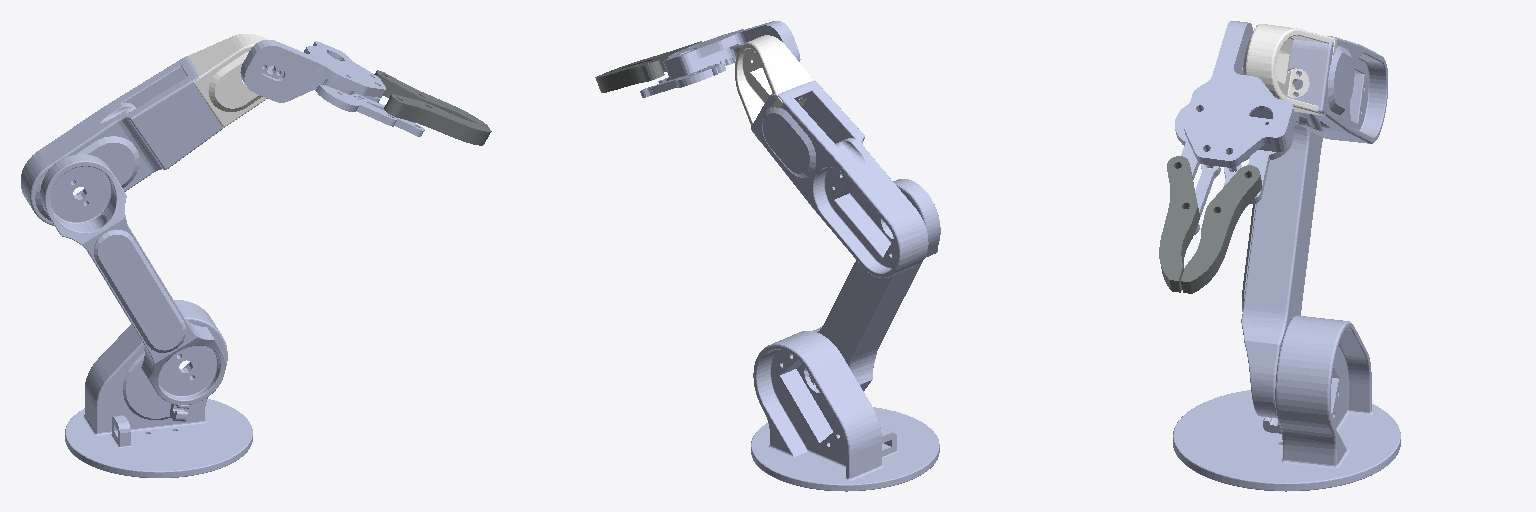
The robot description file, URDF, robot "mobile_arm_bot_2":
<?xml version="1.0" encoding="utf-8"?>
<!-- This URDF was automatically created by SolidWorks to URDF Exporter! Originally created by Stephen Brawner (brawner@gmail.com) 
     Commit Version: 1.6.0-4-g7f85cfe  Build Version: 1.6.7995.38578
     For more information, please see http://wiki.ros.org/sw_urdf_exporter -->
<robot
  name="mobile_arm_bot_2">
  <link
    name="base_link">
    <inertial>
      <origin
        xyz="-0.00036726 0.0001156 0.022489"
        rpy="0 0 0" />
      <mass
        value="0.093638" />
      <inertia
        ixx="0.00012547"
        ixy="-2.5159E-08"
        ixz="1.5661E-06"
        iyy="0.00013089"
        iyz="-1.4418E-07"
        izz="0.00020147" />
    </inertial>
    <visual>
      <origin
        xyz="0 0 0"
        rpy="0 0 0" />
      <geometry>
        <mesh
          filename="package://mobile_arm_manipulator/meshes/base_link.STL" />
      </geometry>
      <material
        name="">
        <color
          rgba="0.79216 0.81961 0.93333 1" />
      </material>
    </visual>
    <collision>
      <origin
        xyz="0 0 0"
        rpy="0 0 0" />
      <geometry>
        <mesh
          filename="package://mobile_arm_manipulator/meshes/base_link.STL" />
      </geometry>
    </collision>
  </link>
  <link
    name="link_1">
    <inertial>
      <origin
        xyz="0.002243 0.0075762 0.018765"
        rpy="0 0 0" />
      <mass
        value="0.072312" />
      <inertia
        ixx="4.9568E-05"
        ixy="-1.5508E-06"
        ixz="-6.3994E-06"
        iyy="6.2445E-05"
        iyz="-6.7489E-06"
        izz="5.6938E-05" />
    </inertial>
    <visual>
      <origin
        xyz="0 0 0"
        rpy="0 0 0" />
      <geometry>
        <mesh
          filename="package://mobile_arm_manipulator/meshes/link_1.STL" />
      </geometry>
      <material
        name="">
        <color
          rgba="0.79216 0.81961 0.93333 1" />
      </material>
    </visual>
    <collision>
      <origin
        xyz="0 0 0"
        rpy="0 0 0" />
      <geometry>
        <mesh
          filename="package://mobile_arm_manipulator/meshes/link_1.STL" />
      </geometry>
    </collision>
  </link>
  <joint
    name="joint_1"
    type="revolute">
    <origin
      xyz="0 0 0.056"
      rpy="0 0 -0.26189" />
    <parent
      link="base_link" />
    <child
      link="link_1" />
    <axis
      xyz="0 0 1" />
    <limit
      lower="0"
      upper="3.1416"
      effort="0"
      velocity="0" />
  </joint>
  <link
    name="link_2">
    <inertial>
      <origin
        xyz="-0.00012948 -0.0043336 0.059294"
        rpy="0 0 0" />
      <mass
        value="0.056532" />
      <inertia
        ixx="9.4195E-05"
        ixy="-3.005E-10"
        ixz="-1.4691E-09"
        iyy="9.7021E-05"
        iyz="-3.0019E-10"
        izz="7.2804E-06" />
    </inertial>
    <visual>
      <origin
        xyz="0 0 0"
        rpy="0 0 0" />
      <geometry>
        <mesh
          filename="package://mobile_arm_manipulator/meshes/link_2.STL" />
      </geometry>
      <material
        name="">
        <color
          rgba="0.79216 0.81961 0.93333 1" />
      </material>
    </visual>
    <collision>
      <origin
        xyz="0 0 0"
        rpy="0 0 0" />
      <geometry>
        <mesh
          filename="package://mobile_arm_manipulator/meshes/link_2.STL" />
      </geometry>
    </collision>
  </link>
  <joint
    name="joint_2"
    type="revolute">
    <origin
      xyz="0.013919 0 0.040276"
      rpy="0 -0.49165 0" />
    <parent
      link="link_1" />
    <child
      link="link_2" />
    <axis
      xyz="0 1 0" />
    <limit
      lower="0"
      upper="3.1416"
      effort="0"
      velocity="0" />
  </joint>
  <link
    name="link_3">
    <inertial>
      <origin
        xyz="0.03808 0.013781 -0.00091995"
        rpy="0 0 0" />
      <mass
        value="0.05696" />
      <inertia
        ixx="1.1086E-05"
        ixy="-9.9972E-07"
        ixz="1.4846E-06"
        iyy="6.7149E-05"
        iyz="5.5761E-08"
        izz="6.3613E-05" />
    </inertial>
    <visual>
      <origin
        xyz="0 0 0"
        rpy="0 0 0" />
      <geometry>
        <mesh
          filename="package://mobile_arm_manipulator/meshes/link_3.STL" />
      </geometry>
      <material
        name="">
        <color
          rgba="0.79216 0.81961 0.93333 1" />
      </material>
    </visual>
    <collision>
      <origin
        xyz="0 0 0"
        rpy="0 0 0" />
      <geometry>
        <mesh
          filename="package://mobile_arm_manipulator/meshes/link_3.STL" />
      </geometry>
    </collision>
  </link>
  <joint
    name="joint_3"
    type="revolute">
    <origin
      xyz="0 0 0.12"
      rpy="-0.0085366 -0.072864 -0.0012933" />
    <parent
      link="link_2" />
    <child
      link="link_3" />
    <axis
      xyz="0.0012899 -0.99996 -0.0086307" />
    <limit
      lower="0"
      upper="3.1416"
      effort="0"
      velocity="0" />
  </joint>
  <link
    name="link_4">
    <inertial>
      <origin
        xyz="0.029998 -0.0057413 0.0048155"
        rpy="0 0 0" />
      <mass
        value="0.018176" />
      <inertia
        ixx="2.8956E-06"
        ixy="6.016E-07"
        ixz="1.9471E-08"
        iyy="5.3577E-06"
        iyz="-1.8766E-08"
        izz="4.262E-06" />
    </inertial>
    <visual>
      <origin
        xyz="0 0 0"
        rpy="0 0 0" />
      <geometry>
        <mesh
          filename="package://mobile_arm_manipulator/meshes/link_4.STL" />
      </geometry>
      <material
        name="">
        <color
          rgba="1 1 1 1" />
      </material>
    </visual>
    <collision>
      <origin
        xyz="0 0 0"
        rpy="0 0 0" />
      <geometry>
        <mesh
          filename="package://mobile_arm_manipulator/meshes/link_4.STL" />
      </geometry>
    </collision>
  </link>
  <joint
    name="joint_4"
    type="revolute">
    <origin
      xyz="0.077872 0.013612 -0.0072246"
      rpy="0.00023545 0.017066 0.0012724" />
    <parent
      link="link_3" />
    <child
      link="link_4" />
    <axis
      xyz="0.99996 0.0002412 -0.0091073" />
    <limit
      lower="0"
      upper="3.1416"
      effort="0"
      velocity="0" />
  </joint>
  <link
    name="gripper_base_link">
    <inertial>
      <origin
        xyz="0.023551 -0.014074 0.0056942"
        rpy="0 0 0" />
      <mass
        value="0.015721" />
      <inertia
        ixx="2.5605E-06"
        ixy="-1.4166E-06"
        ixz="-1.3765E-06"
        iyy="7.2536E-06"
        iyz="-3.5787E-07"
        izz="8.1096E-06" />
    </inertial>
    <visual>
      <origin
        xyz="0 0 0"
        rpy="0 0 0" />
      <geometry>
        <mesh
          filename="package://mobile_arm_manipulator/meshes/gripper_base_link.STL" />
      </geometry>
      <material
        name="">
        <color
          rgba="0.79216 0.81961 0.93333 1" />
      </material>
    </visual>
    <collision>
      <origin
        xyz="0 0 0"
        rpy="0 0 0" />
      <geometry>
        <mesh
          filename="package://mobile_arm_manipulator/meshes/gripper_base_link.STL" />
      </geometry>
    </collision>
  </link>
  <joint
    name="gripper_base_joint"
    type="revolute">
    <origin
      xyz="0.039739 5.0229E-05 0.0046381"
      rpy="-0.025359 1.0602 -0.014195" />
    <parent
      link="link_4" />
    <child
      link="gripper_base_link" />
    <axis
      xyz="0 0.99996 0.0087265" />
    <limit
      lower="0"
      upper="3.1416"
      effort="0"
      velocity="0" />
  </joint>
  <link
    name="left_gear_link">
    <inertial>
      <origin
        xyz="0.0056831 -0.00040658 0.016"
        rpy="0 0 0" />
      <mass
        value="0.0025659" />
      <inertia
        ixx="9.0729E-08"
        ixy="-1.9117E-08"
        ixz="2.1722E-19"
        iyy="3.6228E-07"
        iyz="-4.5607E-20"
        izz="4.4616E-07" />
    </inertial>
    <visual>
      <origin
        xyz="0 0 0"
        rpy="0 0 0" />
      <geometry>
        <mesh
          filename="package://mobile_arm_manipulator/meshes/left_gear_link.STL" />
      </geometry>
      <material
        name="">
        <color
          rgba="0.79216 0.81961 0.93333 1" />
      </material>
    </visual>
    <collision>
      <origin
        xyz="0 0 0"
        rpy="0 0 0" />
      <geometry>
        <mesh
          filename="package://mobile_arm_manipulator/meshes/left_gear_link.STL" />
      </geometry>
    </collision>
  </link>
  <joint
    name="left_gear_joint"
    type="revolute">
    <origin
      xyz="0.038 0.0018999 1.658E-05"
      rpy="0.0087219 -0.00028924 0.033149" />
    <parent
      link="gripper_base_link" />
    <child
      link="left_gear_link" />
    <axis
      xyz="0 0 1" />
    <limit
      lower="0"
      upper="2"
      effort="5"
      velocity="0" />
  </joint>
  <link
    name="left_finger_link">
    <inertial>
      <origin
        xyz="0.026893 0.0045131 -0.0042469"
        rpy="0 0 0" />
      <mass
        value="0.0053975" />
      <inertia
        ixx="1.8308E-07"
        ixy="-3.7341E-07"
        ixz="-6.5545E-12"
        iyy="1.5958E-06"
        iyz="1.2621E-11"
        izz="1.7139E-06" />
    </inertial>
    <visual>
      <origin
        xyz="0 0 0"
        rpy="0 0 0" />
      <geometry>
        <mesh
          filename="package://mobile_arm_manipulator/meshes/left_finger_link.STL" />
      </geometry>
      <material
        name="">
        <color
          rgba="0.52941 0.54902 0.54902 1" />
      </material>
    </visual>
    <collision>
      <origin
        xyz="0 0 0"
        rpy="0 0 0" />
      <geometry>
        <mesh
          filename="package://mobile_arm_manipulator/meshes/left_finger_link.STL" />
      </geometry>
    </collision>
  </link>
  <joint
    name="left_finger_joint"
    type="revolute">
    <origin
      xyz="0.030728 0.0010745 0.013997"
      rpy="0 0 -0.4368" />
    <parent
      link="left_gear_link" />
    <child
      link="left_finger_link" />
    <axis
      xyz="0 0 -1" />
    <limit
      lower="0"
      upper="3.1416"
      effort="0"
      velocity="0" />
    <mimic
      joint="left_gear_joint"
      multiplier="1"
      offset="0" />
  </joint>
  <link
    name="right_gear_link">
    <inertial>
      <origin
        xyz="0.0055788 0.00060197 0.016"
        rpy="0 0 0" />
      <mass
        value="0.0026416" />
      <inertia
        ixx="9.0046E-08"
        ixy="9.2574E-09"
        ixz="4.4469E-21"
        iyy="3.6424E-07"
        iyz="-3.7286E-20"
        izz="4.4724E-07" />
    </inertial>
    <visual>
      <origin
        xyz="0 0 0"
        rpy="0 0 0" />
      <geometry>
        <mesh
          filename="package://mobile_arm_manipulator/meshes/right_gear_link.STL" />
      </geometry>
      <material
        name="">
        <color
          rgba="0.79216 0.81961 0.93333 1" />
      </material>
    </visual>
    <collision>
      <origin
        xyz="0 0 0"
        rpy="0 0 0" />
      <geometry>
        <mesh
          filename="package://mobile_arm_manipulator/meshes/right_gear_link.STL" />
      </geometry>
    </collision>
  </link>
  <joint
    name="right_gear_joint"
    type="revolute">
    <origin
      xyz="0.038 -0.024999 -0.00021816"
      rpy="0.0087077 0.00057486 -0.06592" />
    <parent
      link="gripper_base_link" />
    <child
      link="right_gear_link" />
    <axis
      xyz="0 0 -1" />
    <limit
      lower="0"
      upper="3.1416"
      effort="0"
      velocity="0" />
    <mimic
      joint="left_gear_joint"
      multiplier="1"
      offset="0" />
  </joint>
  <link
    name="right_finger_link">
    <inertial>
      <origin
        xyz="0.026893 0.0045131 -0.0042469"
        rpy="0 0 0" />
      <mass
        value="0.0053975" />
      <inertia
        ixx="1.8308E-07"
        ixy="-3.7341E-07"
        ixz="-6.6286E-12"
        iyy="1.5958E-06"
        iyz="1.2817E-11"
        izz="1.7139E-06" />
    </inertial>
    <visual>
      <origin
        xyz="0 0 0"
        rpy="0 0 0" />
      <geometry>
        <mesh
          filename="package://mobile_arm_manipulator/meshes/right_finger_link.STL" />
      </geometry>
      <material
        name="">
        <color
          rgba="0.52941 0.54902 0.54902 1" />
      </material>
    </visual>
    <collision>
      <origin
        xyz="0 0 0"
        rpy="0 0 0" />
      <geometry>
        <mesh
          filename="package://mobile_arm_manipulator/meshes/right_finger_link.STL" />
      </geometry>
    </collision>
  </link>
  <joint
    name="right_finger_joint"
    type="revolute">
    <origin
      xyz="0.030747 0 0.0055031"
      rpy="-3.1416 0 0.46391" />
    <parent
      link="right_gear_link" />
    <child
      link="right_finger_link" />
    <axis
      xyz="0 0 -1" />
    <limit
      lower="0"
      upper="3.1416"
      effort="0"
      velocity="0" />
    <mimic
      joint="left_gear_joint"
      multiplier="1"
      offset="0" />
  </joint>
  <link
    name="left_link">
    <inertial>
      <origin
        xyz="0.0155 -7.3067E-15 0.017505"
        rpy="0 0 0" />
      <mass
        value="0.00079876" />
      <inertia
        ixx="3.6325E-09"
        ixy="1.2874E-22"
        ixz="-8.1684E-23"
        iyy="1.0292E-07"
        iyz="-6.2142E-22"
        izz="1.0442E-07" />
    </inertial>
    <visual>
      <origin
        xyz="0 0 0"
        rpy="0 0 0" />
      <geometry>
        <mesh
          filename="package://mobile_arm_manipulator/meshes/left_link.STL" />
      </geometry>
      <material
        name="">
        <color
          rgba="0.79216 0.81961 0.93333 1" />
      </material>
    </visual>
    <collision>
      <origin
        xyz="0 0 0"
        rpy="0 0 0" />
      <geometry>
        <mesh
          filename="package://mobile_arm_manipulator/meshes/left_link.STL" />
      </geometry>
    </collision>
  </link>
  <joint
    name="left_joint"
    type="revolute">
    <origin
      xyz="0.058 -0.016986 -0.0016533"
      rpy="0.0087164 0.00042202 -0.048378" />
    <parent
      link="gripper_base_link" />
    <child
      link="left_link" />
    <axis
      xyz="0 0 -1" />
    <limit
      lower="0"
      upper="3.1416"
      effort="0"
      velocity="0" />
    <mimic
      joint="left_gear_joint"
      multiplier="1"
      offset="0" />
  </joint>
  <link
    name="right_link">
    <inertial>
      <origin
        xyz="0.0155 -7.3899E-15 0.01783"
        rpy="0 0 0" />
      <mass
        value="0.00079876" />
      <inertia
        ixx="3.6325E-09"
        ixy="-6.1069E-23"
        ixz="-7.2482E-23"
        iyy="1.0292E-07"
        iyz="-6.2762E-22"
        izz="1.0442E-07" />
    </inertial>
    <visual>
      <origin
        xyz="0 0 0"
        rpy="0 0 0" />
      <geometry>
        <mesh
          filename="package://mobile_arm_manipulator/meshes/right_link.STL" />
      </geometry>
      <material
        name="">
        <color
          rgba="0.79216 0.81961 0.93333 1" />
      </material>
    </visual>
    <collision>
      <origin
        xyz="0 0 0"
        rpy="0 0 0" />
      <geometry>
        <mesh
          filename="package://mobile_arm_manipulator/meshes/right_link.STL" />
      </geometry>
    </collision>
  </link>
  <joint
    name="right_joint"
    type="revolute">
    <origin
      xyz="0.058 -0.0069838 -0.001891"
      rpy="0.0087015 -0.00066156 0.07588" />
    <parent
      link="gripper_base_link" />
    <child
      link="right_link" />
    <axis
      xyz="0 0 1" />
    <limit
      lower="0"
      upper="2"
      effort="5"
      velocity="0" />
    <mimic
      joint="left_gear_joint"
      multiplier="1"
      offset="0" />
  </joint>
</robot>

--- Facts derived from the render (not from the file) ---
The picture shows the robot from 3 angles, left to right: view 1: azimuth 30°, elevation 25°; view 2: azimuth 150°, elevation 25°; view 3: azimuth 270°, elevation 25°; orthographic projection.
Model mobile_arm_bot_2 with 12 links and 11 joints (11 revolute), rooted at base_link, posed every joint at zero.
Links seen in each view (by area): view 1: link_2, link_1, link_3, gripper_base_link, link_4, right_finger_link, left_finger_link, right_gear_link; view 2: link_1, link_3, link_2, link_4, gripper_base_link, left_finger_link, left_gear_link; view 3: link_1, link_2, gripper_base_link, link_3, left_finger_link, link_4, right_finger_link, left_gear_link, left_link, right_gear_link.
Boxes of the visible links, x1=… form: link_2: x1=40, y1=154, x2=225, y2=421; link_1: x1=65, y1=300, x2=252, y2=477; link_3: x1=21, y1=56, x2=222, y2=225; gripper_base_link: x1=240, y1=40, x2=385, y2=102; link_4: x1=189, y1=34, x2=273, y2=127; right_finger_link: x1=384, y1=94, x2=491, y2=145; left_finger_link: x1=374, y1=70, x2=488, y2=127; right_gear_link: x1=315, y1=84, x2=396, y2=126; link_1: x1=751, y1=331, x2=939, y2=491; link_3: x1=751, y1=80, x2=928, y2=277; link_2: x1=809, y1=179, x2=940, y2=390; link_4: x1=735, y1=35, x2=813, y2=140; gripper_base_link: x1=663, y1=21, x2=800, y2=79; left_finger_link: x1=595, y1=60, x2=664, y2=92; left_gear_link: x1=651, y1=63, x2=725, y2=94; link_1: x1=1173, y1=315, x2=1400, y2=491; link_2: x1=1241, y1=125, x2=1322, y2=433; gripper_base_link: x1=1183, y1=21, x2=1295, y2=167; link_3: x1=1285, y1=36, x2=1387, y2=143; left_finger_link: x1=1181, y1=165, x2=1261, y2=293; link_4: x1=1243, y1=24, x2=1336, y2=115; right_finger_link: x1=1159, y1=156, x2=1199, y2=292; left_gear_link: x1=1245, y1=116, x2=1293, y2=203; left_link: x1=1194, y1=164, x2=1220, y2=234; right_gear_link: x1=1175, y1=103, x2=1199, y2=179.
Size in the robot's own frame: 0.2348 by 0.1028 by 0.222 metres.
11 mesh visuals loaded from 12 distinct referenced files (11 binary STL); not drawn: 1 (reference not matched to a file when rendering).
